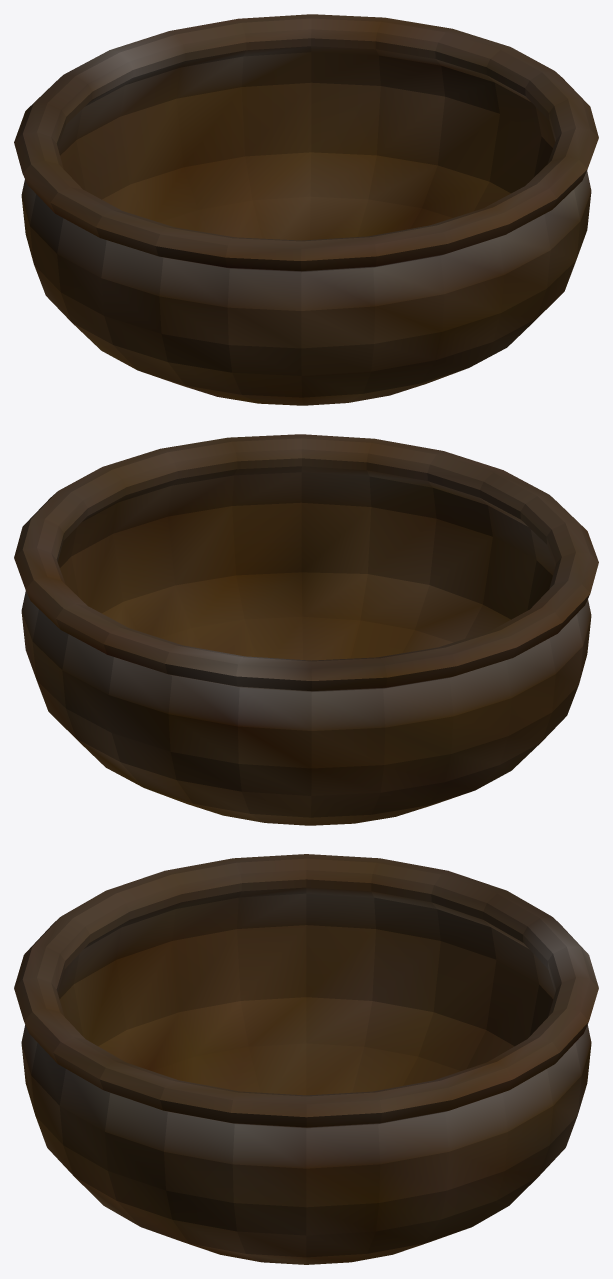
File: bamboo_basket_6c7e1244.glb
3 renders of one model, top to bottom at view 1: azimuth 30°, elevation 25°; view 2: azimuth 150°, elevation 25°; view 3: azimuth 270°, elevation 25°, orthographic. The views are drawn at different scales.
Parts seen in each view (by area): view 1: SM_Bamboo_Basket_M_Bamboo_Basket_0; view 2: SM_Bamboo_Basket_M_Bamboo_Basket_0; view 3: SM_Bamboo_Basket_M_Bamboo_Basket_0.
Part boxes in pixels (box(x1,y1,x2,y2)): SM_Bamboo_Basket_M_Bamboo_Basket_0: box(14, 14, 598, 405); SM_Bamboo_Basket_M_Bamboo_Basket_0: box(14, 434, 598, 825); SM_Bamboo_Basket_M_Bamboo_Basket_0: box(14, 854, 598, 1264).
Size of the model in its own units: 0.5365 by 0.23 by 0.5138.
